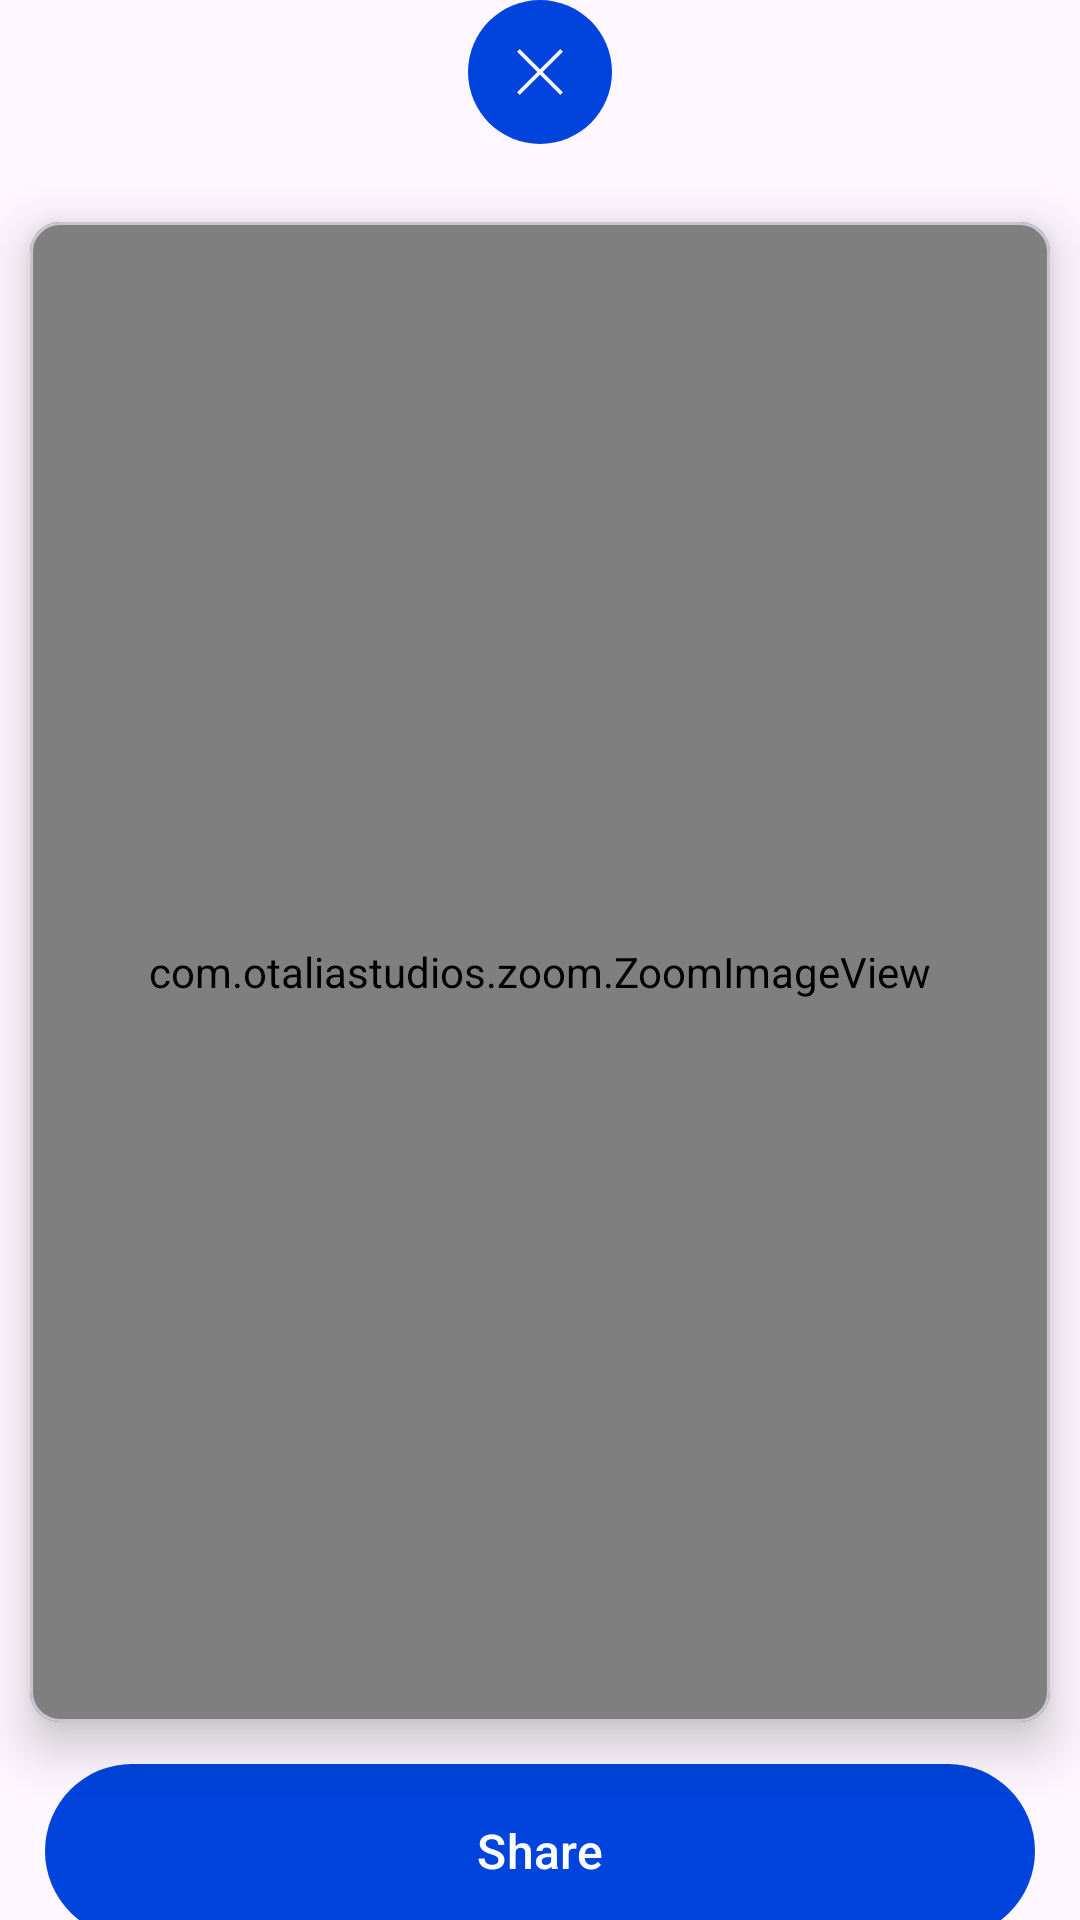

Point at icon controls on the screen. Image size 1080 × 1920, points as point (x, y).
close popup: point (540, 72)
